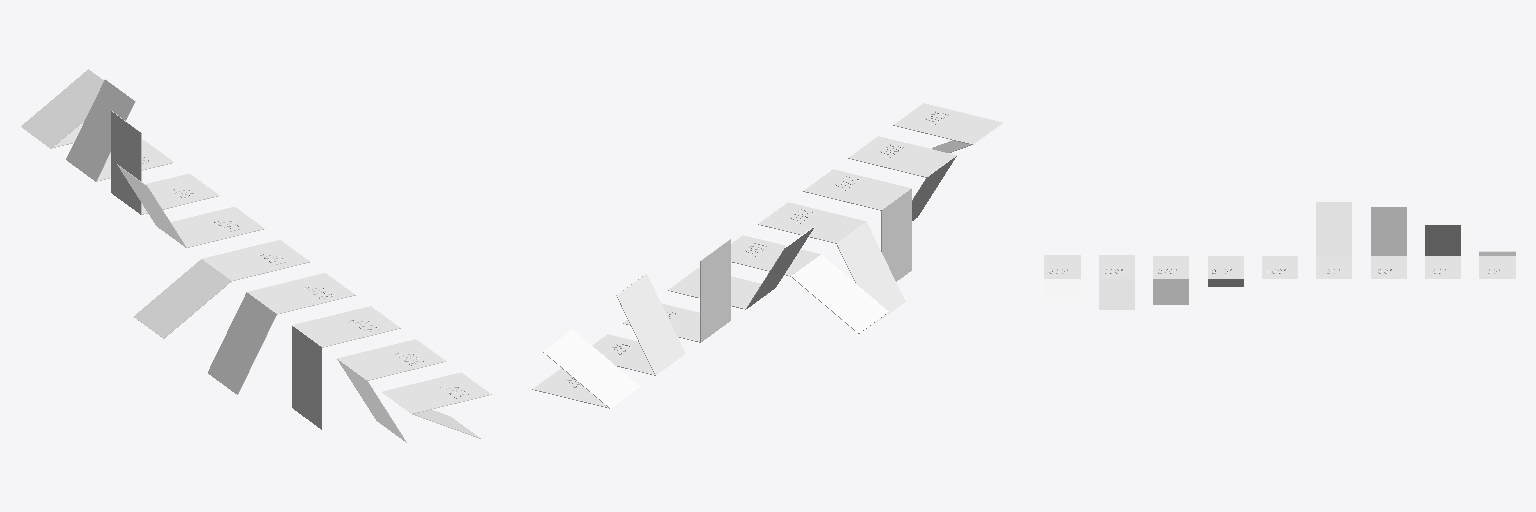
The robot description file, URDF, robot "angles_wall":
<?xml version="1.0" encoding="utf-8"?>
<!-- This URDF was automatically created by SolidWorks to URDF Exporter! Originally created by Stephen Brawner (brawner@gmail.com) 
     Commit Version: 1.6.0-4-g7f85cfe  Build Version: 1.6.7995.38578
     For more information, please see http://wiki.ros.org/sw_urdf_exporter -->
<robot
  name="angles_wall">
  <link name="world"/>
  <joint name="fixed" type="fixed">
    <parent link="world"/>
    <child link="angles_wall"/>
  </joint>
  <link
    name="angles_wall">
    <inertial>
      <origin
        xyz="2.7335 -12.023 -0.1345"
        rpy="0 0 0" />
      <mass
        value="14385" />
      <inertia
        ixx="114910"
        ixy="-31.158"
        ixz="-12252"
        iyy="281270"
        iyz="0.87095"
        izz="204760" />
    </inertial>
    <visual>
      <origin
        xyz="0 0 0"
        rpy="0 0 0" />
      <geometry>
        <mesh
          filename="package://sim_env/model/angles_wall/angles_wall.STL" />
      </geometry>
      <material
        name="">
        <color
          rgba="1 1 1 1" />
      </material>
    </visual>
    <collision>
      <origin
        xyz="0 0 0"
        rpy="0 0 0" />
      <geometry>
        <mesh
          filename="package://sim_env/model/angles_wall/angles_wall.STL" />
      </geometry>
    </collision>
  </link>
  <gazebo reference="angles_wall">
    <mu1>100</mu1>
    <mu2>100</mu2>
    <kp>80000.0</kp>
    <kd>200.0</kd>
  </gazebo>
</robot>

--- Facts derived from the render (not from the file) ---
3 views of the same robot in one strip: view 1: azimuth 30°, elevation 25°; view 2: azimuth 150°, elevation 25°; view 3: azimuth 270°, elevation 25° (orthographic).
Robot: angles_wall — 2 links, 1 joints (1 fixed); root link world; default pose: all joints at 0.
Links seen in each view (by area): view 1: angles_wall; view 2: angles_wall; view 3: angles_wall.
Boxes of the visible links, x1,y1,x2,y2 form: angles_wall: (21,69,491,442); angles_wall: (532,103,1002,408); angles_wall: (1044,202,1515,309).
Size in the robot's own frame: 5.61 by 26 by 6 metres.
Meshes: 1 distinct files referenced, 1 mesh visuals loaded (1 binary STL).
